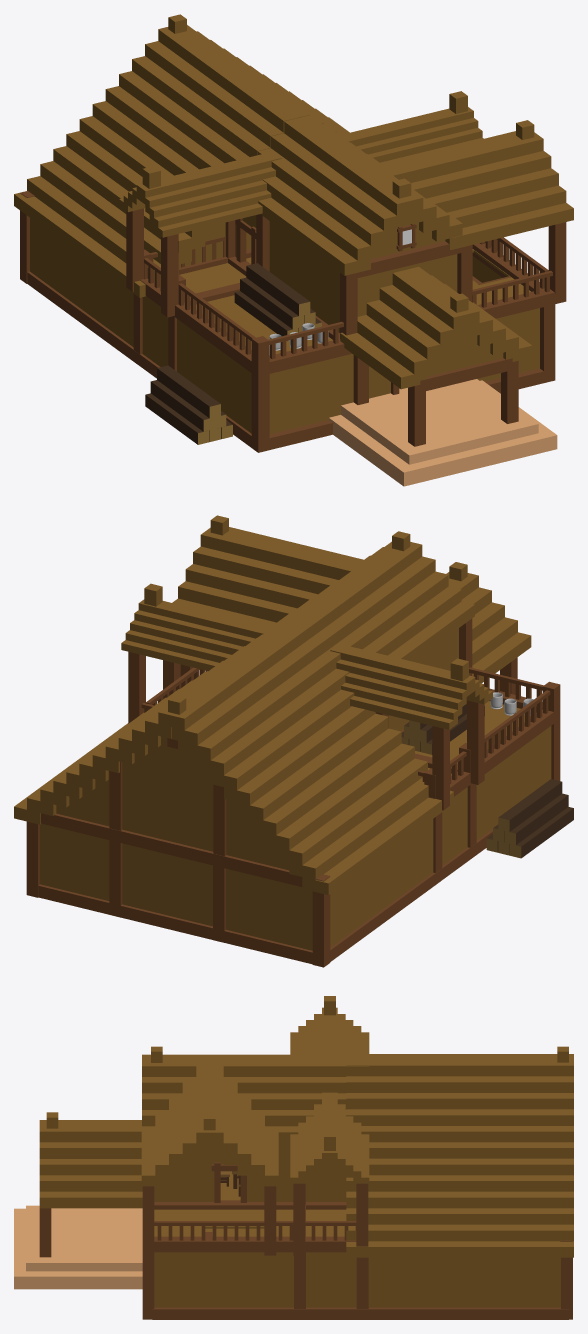
Rendered from 木屋子.fbx.
The picture shows the model from 3 angles, top to bottom: view 1: azimuth 30°, elevation 25°; view 2: azimuth 150°, elevation 25°; view 3: azimuth 270°, elevation 25°; orthographic projection. The views are drawn at different scales.
Visible parts, largest first — view 1: 屋顶, Cube, 立方体.005, 立方体.053, 立方体.083, 立方体.006, 立方体.032, 立方体.064, 立方体.065, 立方体.030, 立方体.007, 立方体 (+36 smaller); view 2: 屋顶, 立方体.096, 立方体.053, 立方体.083, Cube, 立方体.086, 立方体.081, 立方体.080, 立方体.025, 立方体.079, 立方体.158, 立方体.068 (+18 smaller); view 3: 屋顶, 立方体.052, 立方体.082, 立方体.005, Cube.001, 立方体.027, 立方体.065, 立方体.006, 立方体.026, 立方体.077, 立方体.018, Cube (+13 smaller).
Boxes of the visible parts, box(x1,y1,x2,y2) form: 屋顶: box(14, 14, 573, 297); Cube: box(340, 267, 479, 389); 立方体.005: box(341, 379, 538, 464); 立方体.053: box(142, 296, 251, 433); 立方体.083: box(30, 218, 133, 346); 立方体.006: box(329, 380, 557, 486); 立方体.032: box(269, 354, 353, 434); 立方体.064: box(235, 215, 339, 332); 立方体.065: box(180, 249, 531, 354); 立方体.030: box(357, 222, 457, 316); 立方体.007: box(251, 336, 269, 452); 立方体: box(408, 360, 518, 446); 屋顶: box(14, 515, 492, 895); 立方体.096: box(40, 736, 312, 950); 立方体.053: box(442, 726, 551, 865); 立方体.083: box(330, 819, 433, 947); Cube: box(446, 572, 531, 683); 立方体.086: box(41, 813, 329, 886); 立方体.081: box(38, 884, 312, 964); 立方体.080: box(330, 870, 440, 961); 立方体.025: box(450, 709, 553, 796); 立方体.079: box(312, 876, 330, 967); 立方体.158: box(498, 779, 562, 831); 立方体.068: box(467, 700, 484, 784); 屋顶: box(141, 996, 573, 1257); 立方体.052: box(154, 1252, 356, 1307); 立方体.082: box(368, 1257, 560, 1307); 立方体.005: box(26, 1205, 142, 1271); Cube.001: box(39, 1142, 142, 1208); 立方体.027: box(154, 1143, 346, 1201); 立方体.065: box(154, 1171, 346, 1236); 立方体.006: box(14, 1208, 142, 1289); 立方体.026: box(154, 1236, 356, 1252); 立方体.077: box(359, 1307, 568, 1319); 立方体.018: box(152, 1307, 361, 1319); Cube: box(39, 1120, 141, 1142).
Bounding box in the file's own units: 6246 × 3864 × 9498.
